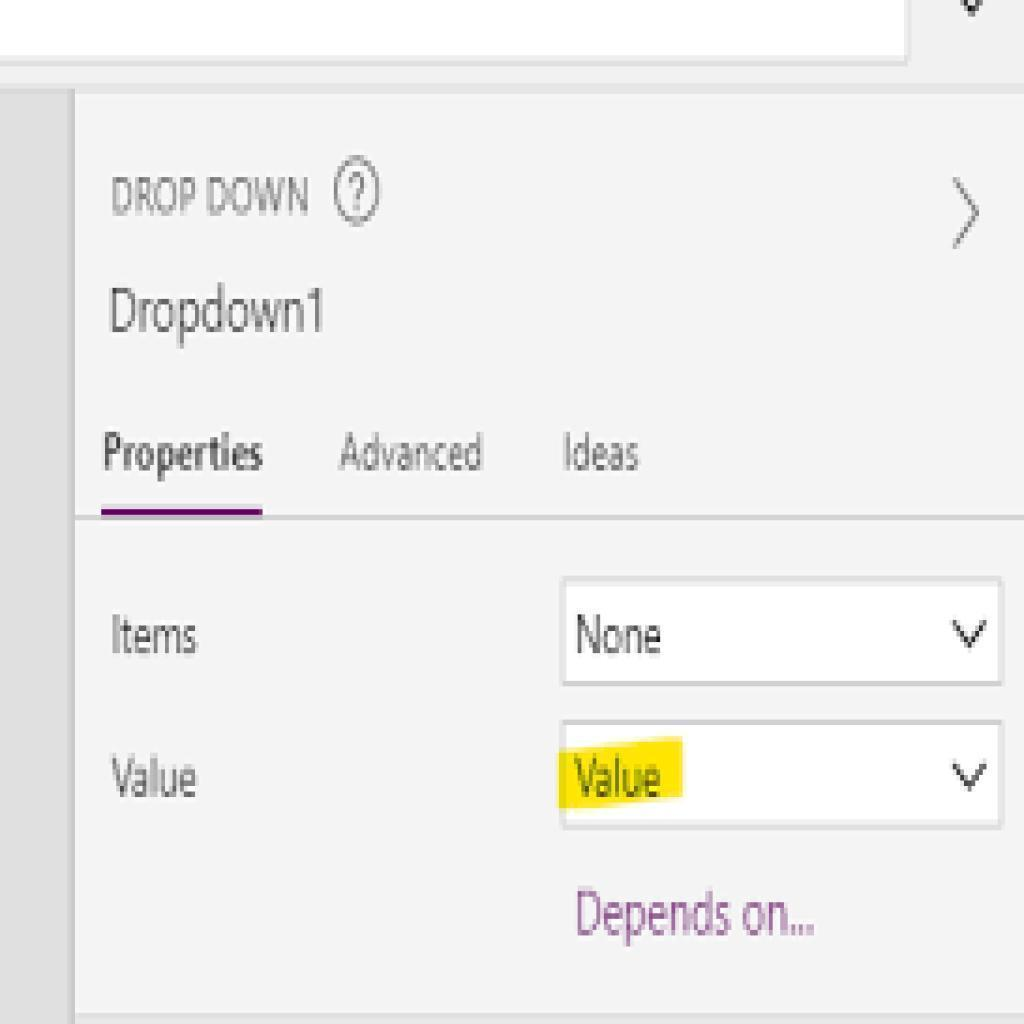dropdown: (562, 574, 1003, 689), (566, 724, 998, 833)
icon: (333, 153, 382, 229), (944, 173, 986, 258)
label: (99, 426, 269, 476), (331, 431, 496, 478), (103, 749, 211, 814), (97, 611, 203, 665), (560, 426, 648, 478)
